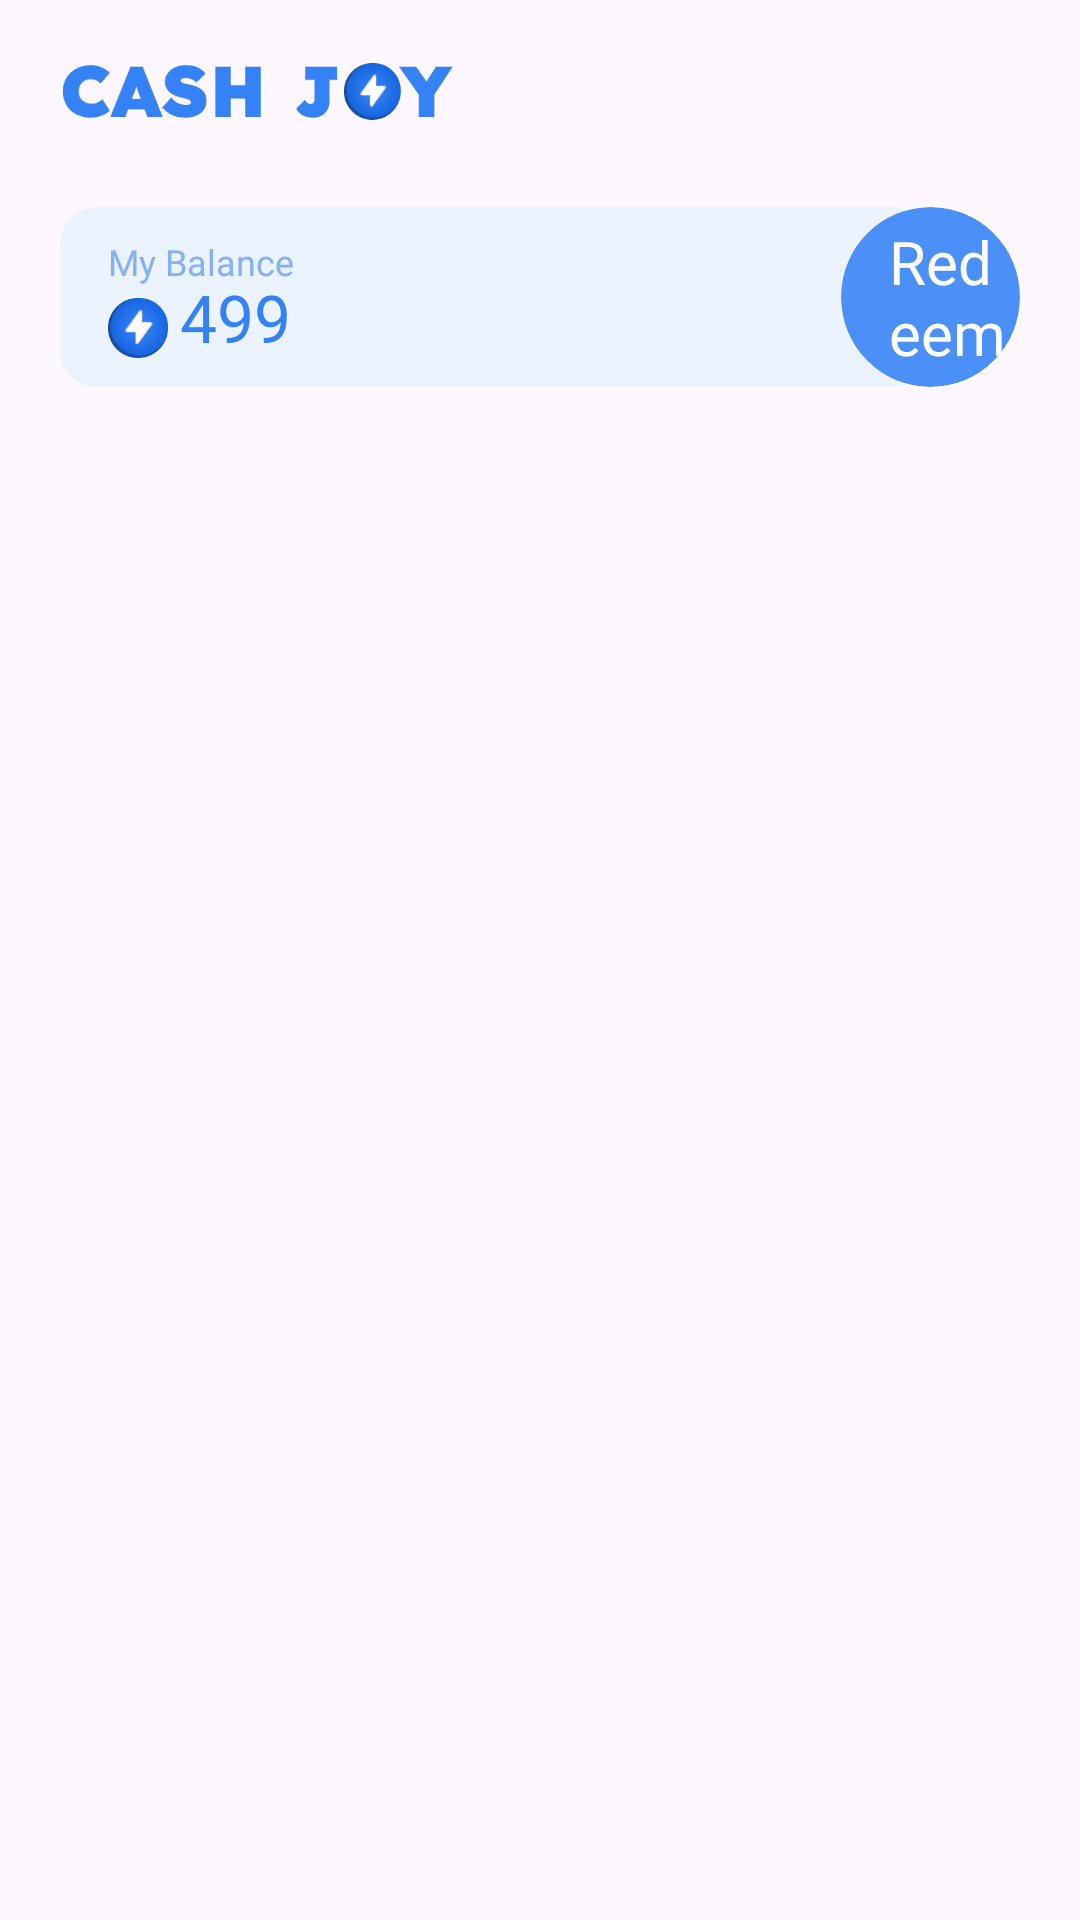

Screen size 1080x1920. Icon name, then its box in pixels as (x1, y1, x2, y2):
bolt: (108, 298, 168, 358)
